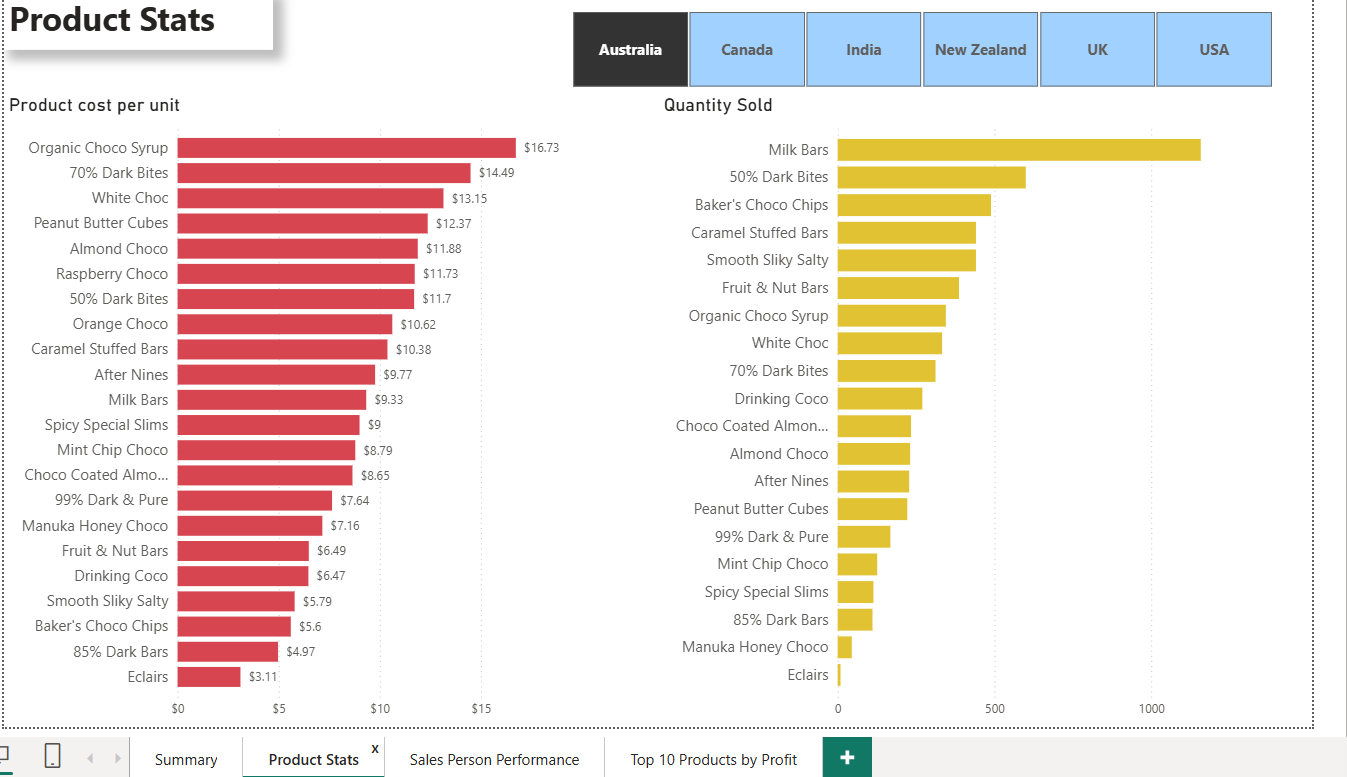

The dashboard page shown, as its layout file describes it:
{"tool":"powerbi","page":{"name":"Product Stats","canvas":[1280,720],"ordinal":1},"visuals":[{"type":"barChart","title":"Product cost per unit","fields":{"Category":["products.Product"],"Y":["Sum(products.Cost per unit)"]},"box":[0,100.2,561.1,619.8],"z":0},{"type":"barChart","title":"Quantity Sold","fields":{"Category":["products.Product"],"Y":["Sum(Dataset.Quantity)"]},"box":[640.5,100.2,561.1,619.8],"z":1000},{"type":"textbox","box":[0,0,262.8,57.5],"z":2000},{"type":"slicer","fields":{"Values":["Dataset.Country"]},"box":[530.5,13.4,733.4,86.8],"z":3000}]}

Visuals, with their boxes on the page's 1280x720 design canvas (x1, y1, x2, y2). These are canvas units, not pixel positions in the 1347x777 screenshot, which may show the page scaled, cropped or inside an application window:
"Product cost per unit" barChart: (0, 100, 561, 720)
"Quantity Sold" barChart: (640, 100, 1202, 720)
textbox: (0, 0, 263, 58)
slicer - Dataset.Country: (530, 13, 1264, 100)
